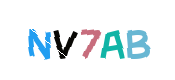7: (46, 0, 126, 80)
A: (47, 0, 127, 80)
B: (81, 0, 161, 80)
N: (24, 0, 104, 80)
V: (35, 0, 115, 80)
